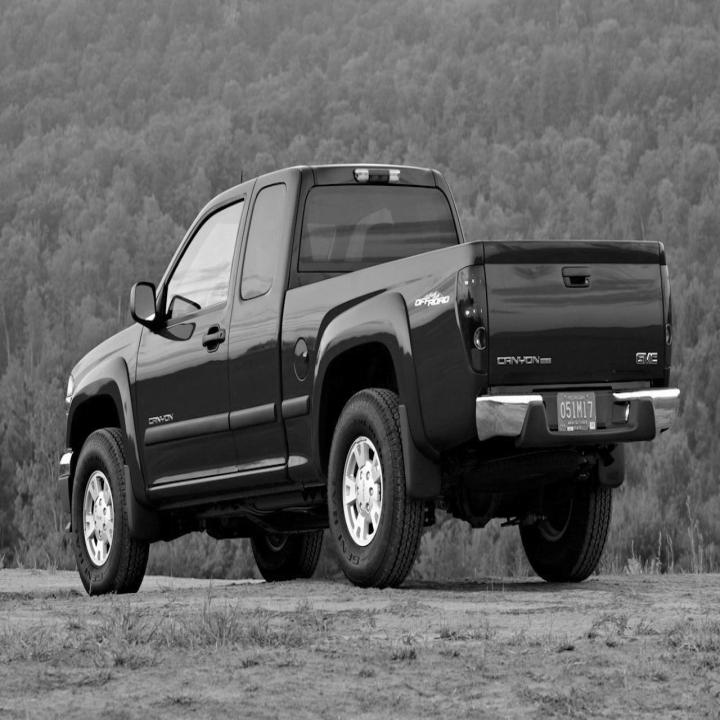car: (58, 161, 680, 594)
plat: (556, 392, 597, 432)
